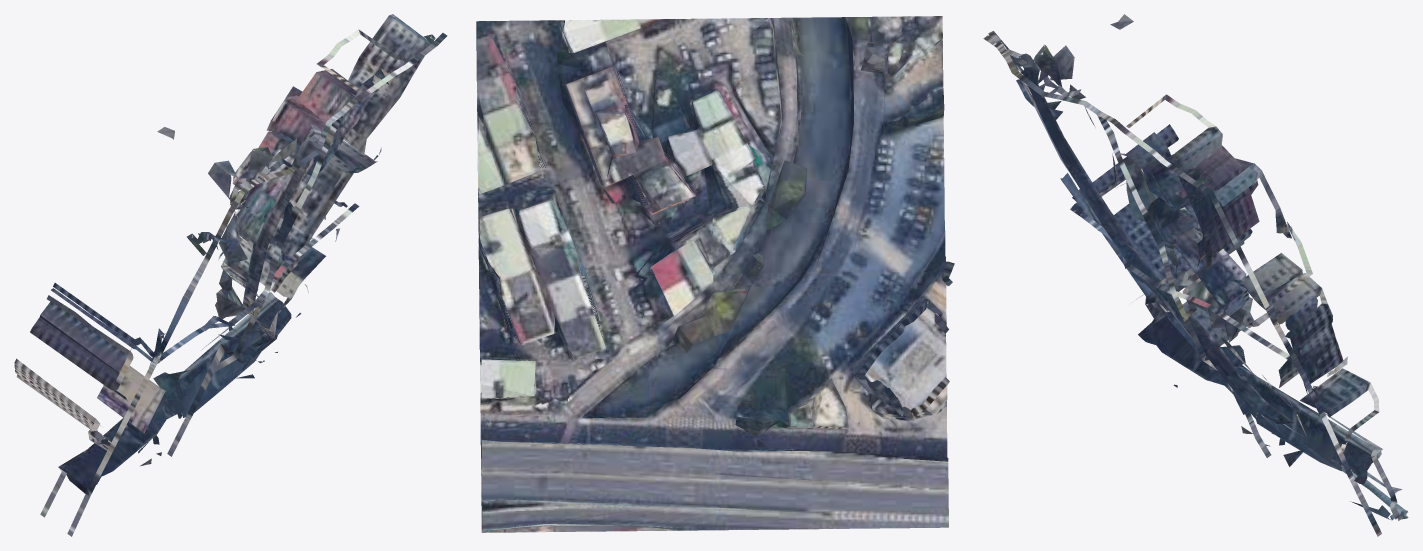
The picture shows the model from 3 angles, left to right: view 1: azimuth 30°, elevation 25°; view 2: azimuth 150°, elevation 25°; view 3: azimuth 270°, elevation 25°; orthographic projection. The views are drawn at different scales.
Size of the model in its own units: 163 by 147 by 137.
Materials: 1 (1 with a texture image).
